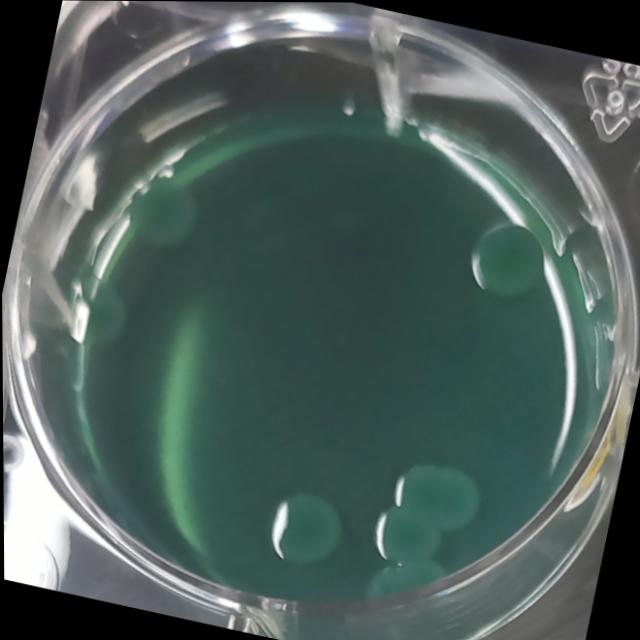vibrio: (452, 207, 556, 308), (252, 477, 352, 582), (385, 448, 489, 535), (115, 165, 207, 257), (361, 499, 442, 573)
